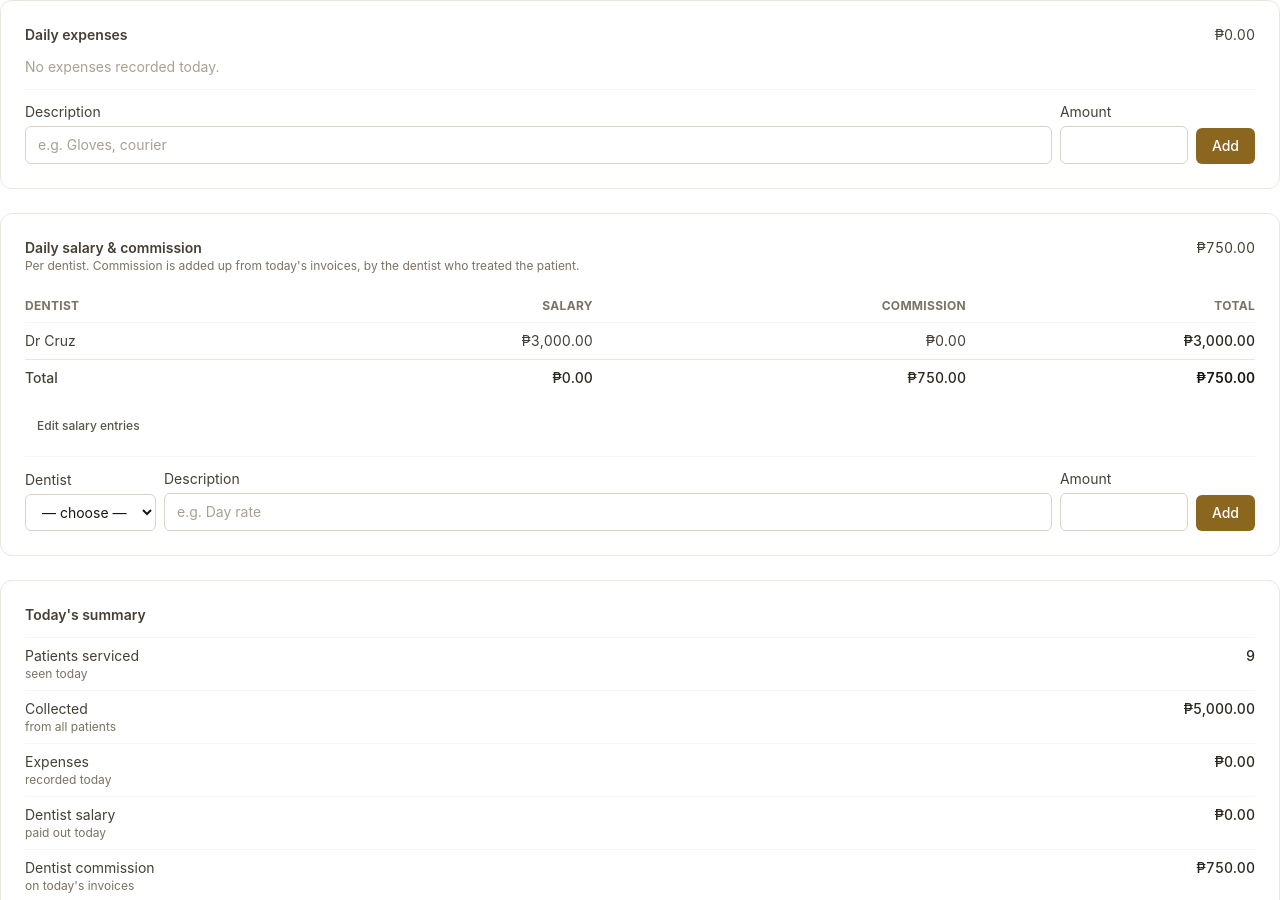
Test: DailyClosePanel › daily salary › lets an admin open the salary entries to correct one
This screenshot has width=1280, height=900.
Expected: the text "Morning" is not shown
Click the button "Edit salary entries" at coordinates (88, 426), box [25, 412, 152, 440]
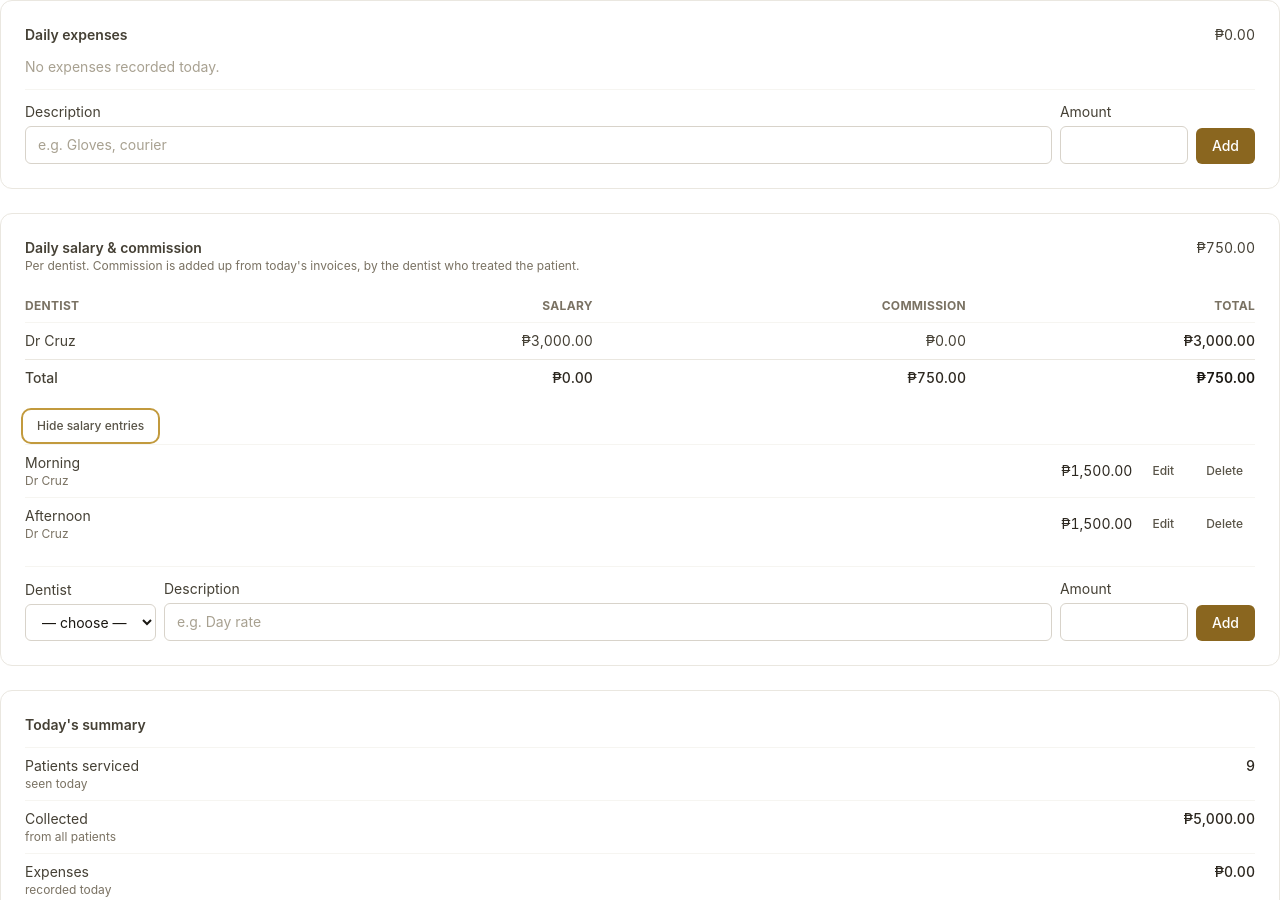
Now the button "Hide salary entries" is expanded, box [25, 412, 156, 440]
Now the text "Morning" is shown, box [25, 453, 80, 473]
Now the button with aria-label "edit morning" is shown, box [1140, 457, 1186, 485]
